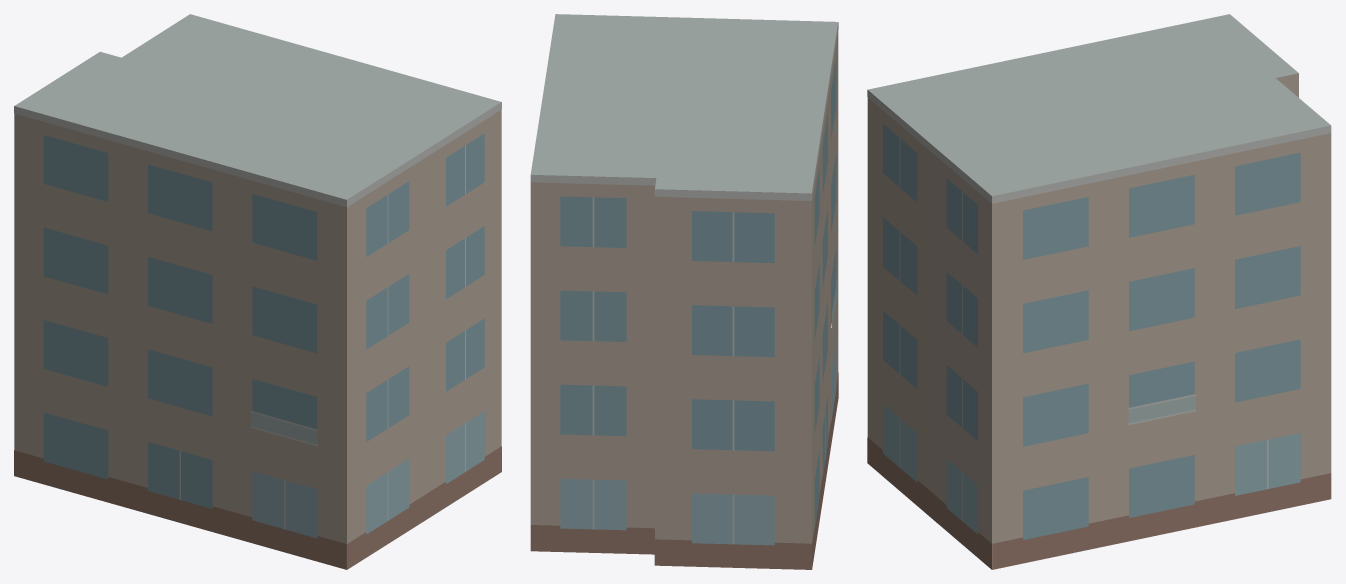
File: residential-27e01f7d-8769-4c07-afa9-2477f2109eea.glb
The picture shows the model from 3 angles, left to right: view 1: azimuth 30°, elevation 25°; view 2: azimuth 150°, elevation 25°; view 3: azimuth 270°, elevation 25°; orthographic projection.
Visible parts, largest first — view 1: residential-27e01f7d-8769-4c07-afa9-2477f2109eea.tmp; view 2: residential-27e01f7d-8769-4c07-afa9-2477f2109eea.tmp; view 3: residential-27e01f7d-8769-4c07-afa9-2477f2109eea.tmp.
Part boxes in pixels (bbox=[...]): residential-27e01f7d-8769-4c07-afa9-2477f2109eea.tmp: bbox=[14, 14, 501, 569]; residential-27e01f7d-8769-4c07-afa9-2477f2109eea.tmp: bbox=[530, 14, 838, 569]; residential-27e01f7d-8769-4c07-afa9-2477f2109eea.tmp: bbox=[867, 14, 1331, 569].
Size of the model in its own units: 12.77 by 12.2 by 13.74.
